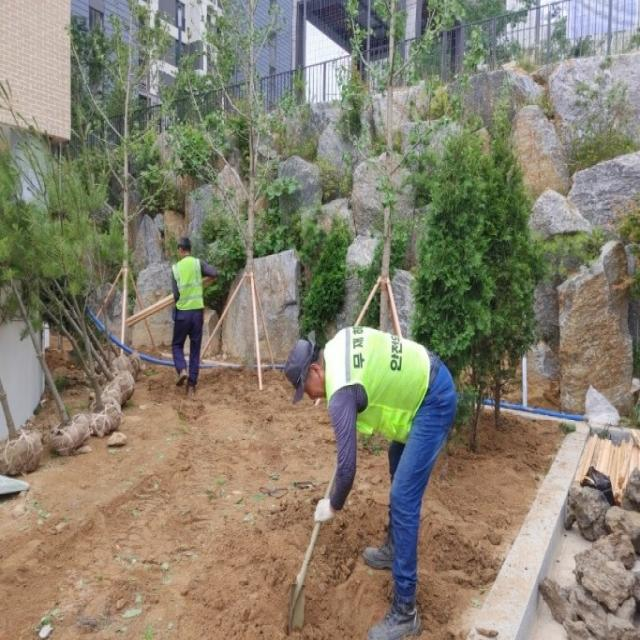plant: (173, 0, 311, 370), (0, 80, 123, 438), (0, 141, 137, 408), (410, 123, 520, 451), (452, 105, 548, 426), (0, 144, 93, 456), (0, 376, 43, 478)
